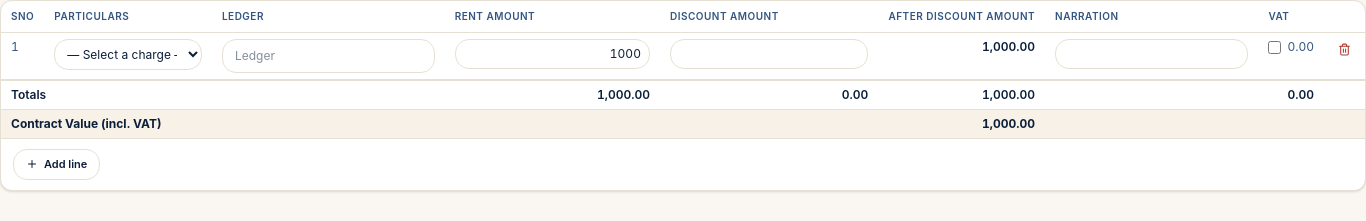
LeaseLinesGrid › pre-fills VAT from the charge type's default when the type changes
Expected: the checkbox with test id "lease-line-vat-0" is not checked, [1268,40,1281,54]
Select "Rent" in the dropdown with test id "lease-line-type-0" at [128, 54], box [54,39,202,70]
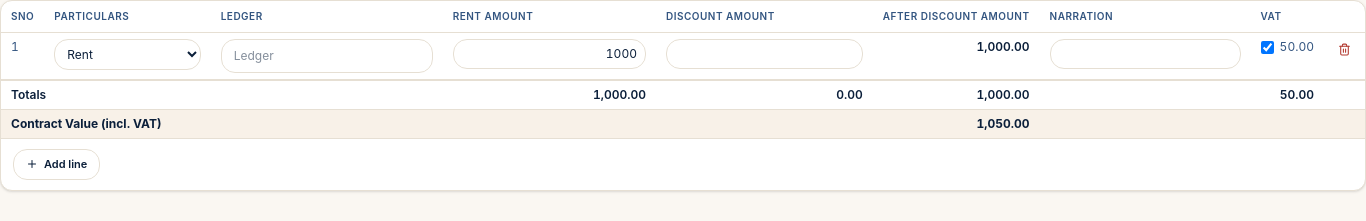
Expected: the checkbox with test id "lease-line-vat-0" is checked, [1261,40,1274,54]
Select "Security Deposit" in the dropdown with test id "lease-line-type-0" at [128, 54], box [54,39,201,70]
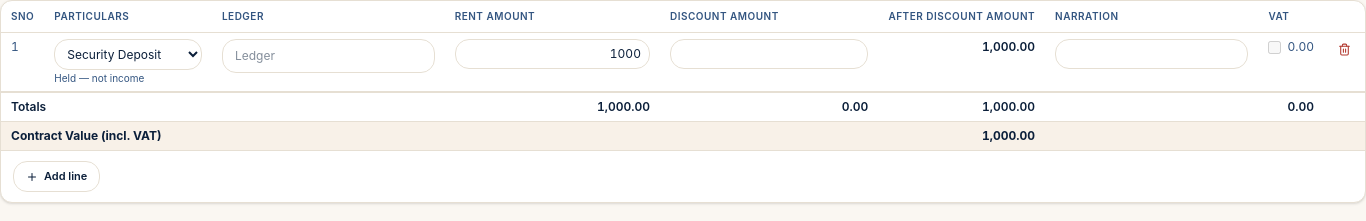
Expected: the checkbox with test id "lease-line-vat-0" is not checked, [1268,40,1281,54]
Expected: the checkbox with test id "lease-line-vat-0" is disabled, [1268,40,1281,54]
